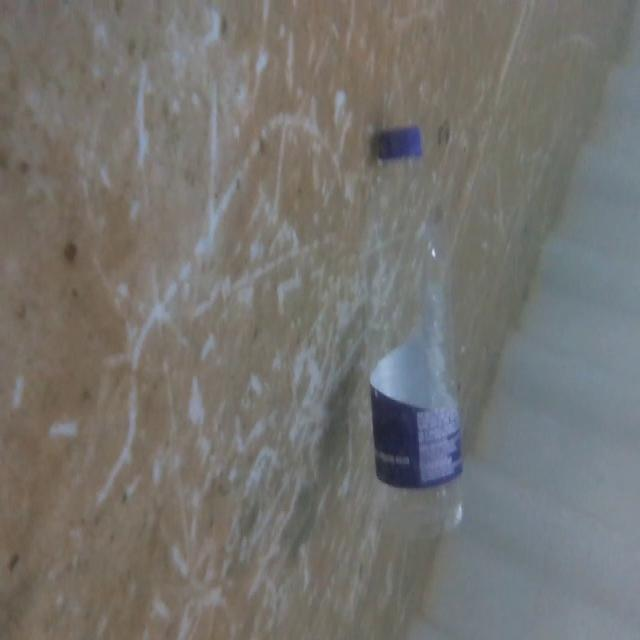plastic bottle: (354, 115, 482, 542)
